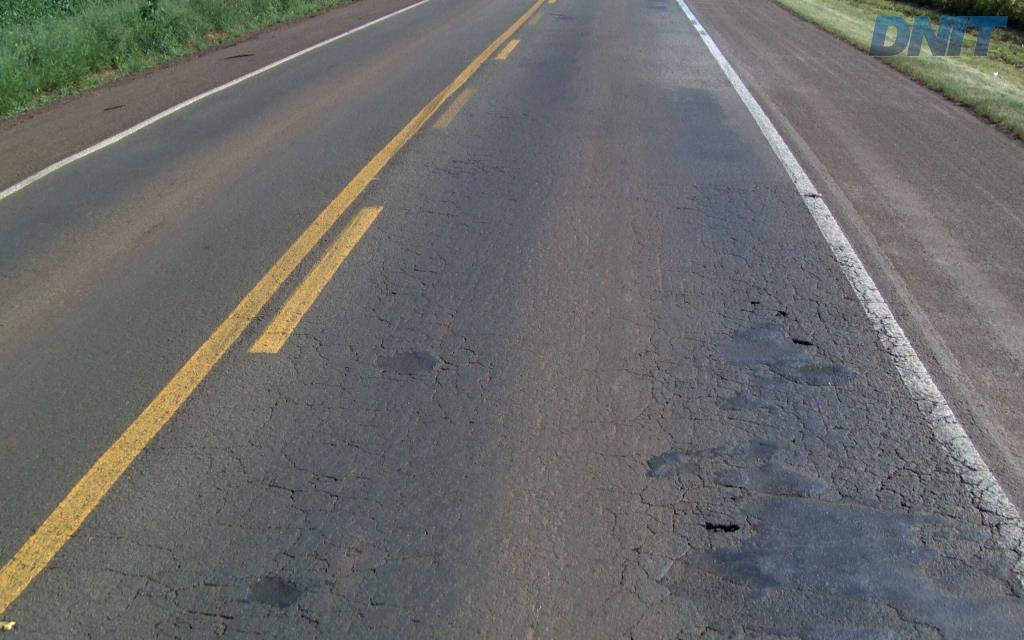crack: (691, 501, 787, 596), (229, 565, 321, 619), (763, 359, 843, 403), (394, 347, 436, 382), (764, 480, 810, 498)
pothole: (692, 517, 753, 540), (782, 333, 826, 349), (771, 305, 793, 321), (743, 294, 764, 308)
